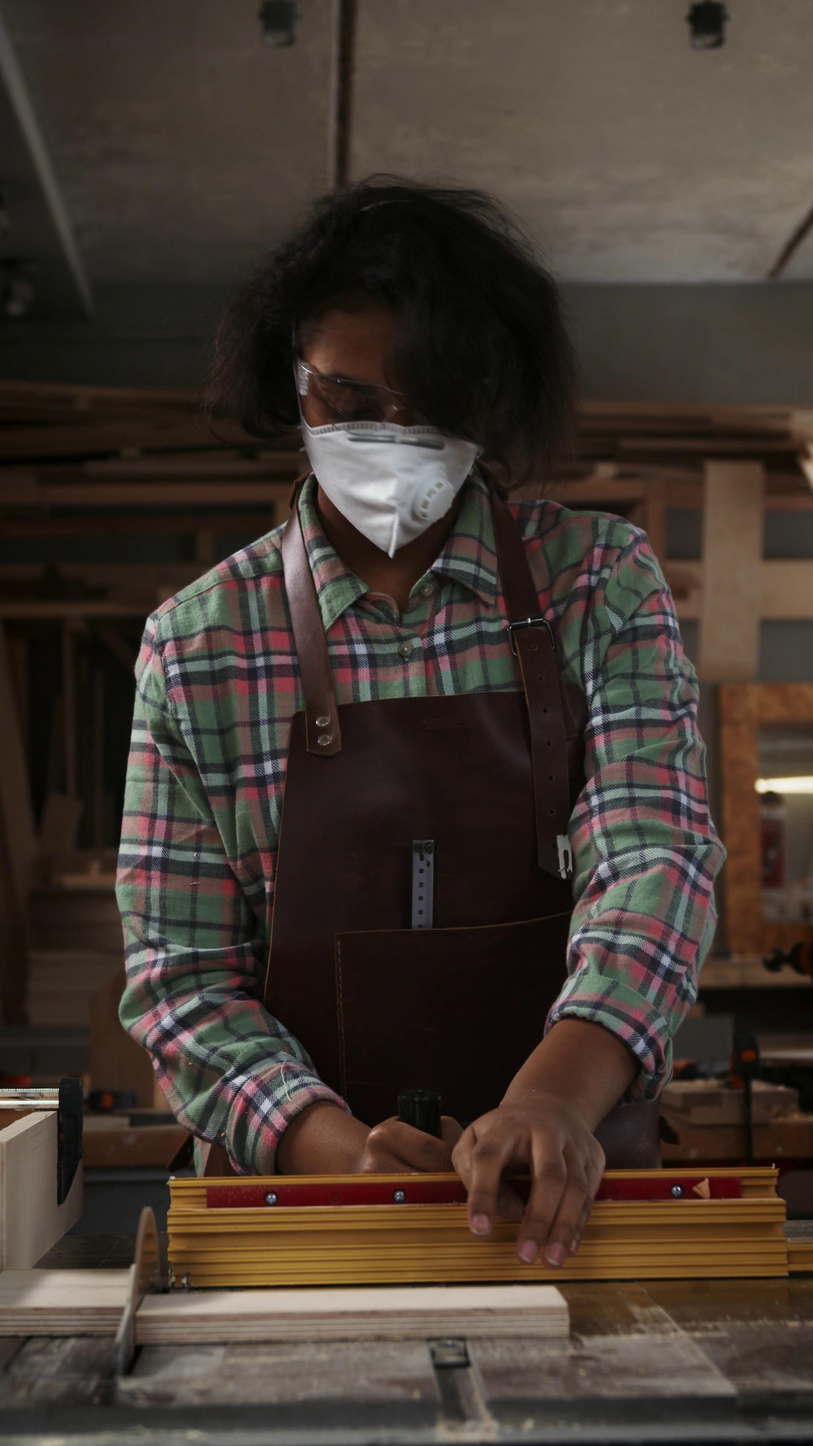mask: (298, 417, 483, 559)
person: (115, 175, 717, 1270)
